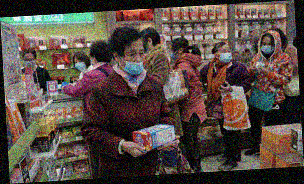mask_weared_incorrect: (122, 47, 146, 76)
with_mask: (218, 48, 234, 64), (261, 40, 277, 54), (23, 55, 36, 69), (75, 58, 87, 72), (171, 46, 180, 61)
